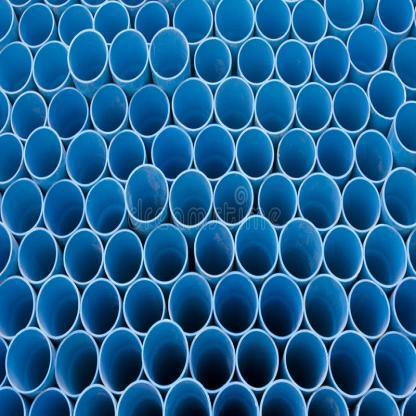pipe: (141, 320, 188, 388), (54, 329, 100, 398), (190, 326, 236, 394), (6, 326, 52, 394), (329, 330, 375, 398), (99, 327, 144, 394), (213, 270, 258, 336), (259, 273, 304, 339), (304, 274, 349, 340), (278, 218, 324, 282), (363, 224, 408, 288), (168, 272, 213, 336), (36, 274, 80, 339), (374, 331, 416, 398), (234, 215, 278, 278), (284, 329, 328, 391), (144, 224, 189, 284), (236, 329, 278, 391), (170, 169, 214, 228), (298, 173, 342, 231), (125, 164, 168, 223), (85, 178, 127, 236), (44, 180, 86, 238), (123, 278, 165, 336), (349, 280, 391, 338), (1, 178, 43, 235), (80, 278, 121, 336), (194, 220, 234, 279), (254, 79, 296, 135), (66, 130, 108, 186), (0, 275, 36, 340), (194, 124, 235, 181), (323, 225, 364, 282), (152, 125, 194, 180), (214, 76, 255, 132), (341, 176, 382, 232), (67, 28, 108, 84), (18, 227, 58, 284), (64, 228, 104, 285), (128, 84, 170, 138), (148, 27, 190, 80), (104, 228, 142, 286), (172, 78, 214, 130), (48, 87, 89, 140), (258, 173, 297, 228), (214, 172, 254, 225), (382, 166, 416, 228), (109, 28, 148, 82), (23, 126, 62, 179), (355, 129, 393, 183), (277, 128, 316, 180), (107, 130, 146, 182), (236, 127, 274, 180), (316, 128, 356, 178), (347, 24, 387, 74), (295, 82, 333, 133), (33, 40, 70, 92), (90, 84, 128, 134), (10, 90, 48, 140), (172, 0, 214, 45), (368, 70, 406, 119), (333, 83, 370, 133), (313, 36, 350, 86), (164, 378, 212, 416), (194, 36, 232, 84), (115, 380, 164, 416), (214, 0, 255, 43), (259, 380, 307, 416), (238, 37, 274, 85), (0, 42, 33, 94), (93, 0, 130, 46), (275, 40, 312, 86), (212, 382, 260, 416), (58, 4, 94, 48), (255, 0, 292, 42), (134, 2, 170, 44), (18, 4, 54, 46), (292, 1, 327, 44), (393, 276, 416, 337), (73, 384, 116, 415), (392, 38, 416, 92), (306, 386, 350, 415), (0, 132, 24, 184), (393, 100, 416, 154), (28, 387, 72, 415), (378, 1, 414, 35), (356, 388, 401, 415), (324, 1, 364, 30), (0, 386, 26, 416), (0, 222, 12, 275), (0, 0, 15, 42), (0, 86, 10, 138)
